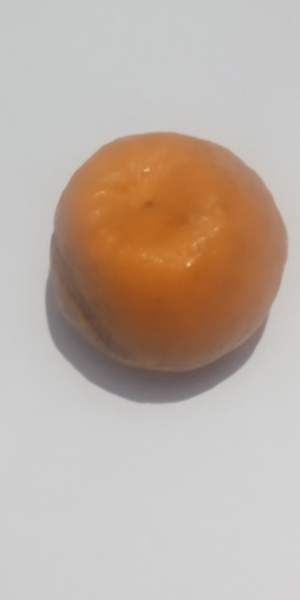BAD: (51, 128, 290, 386)
